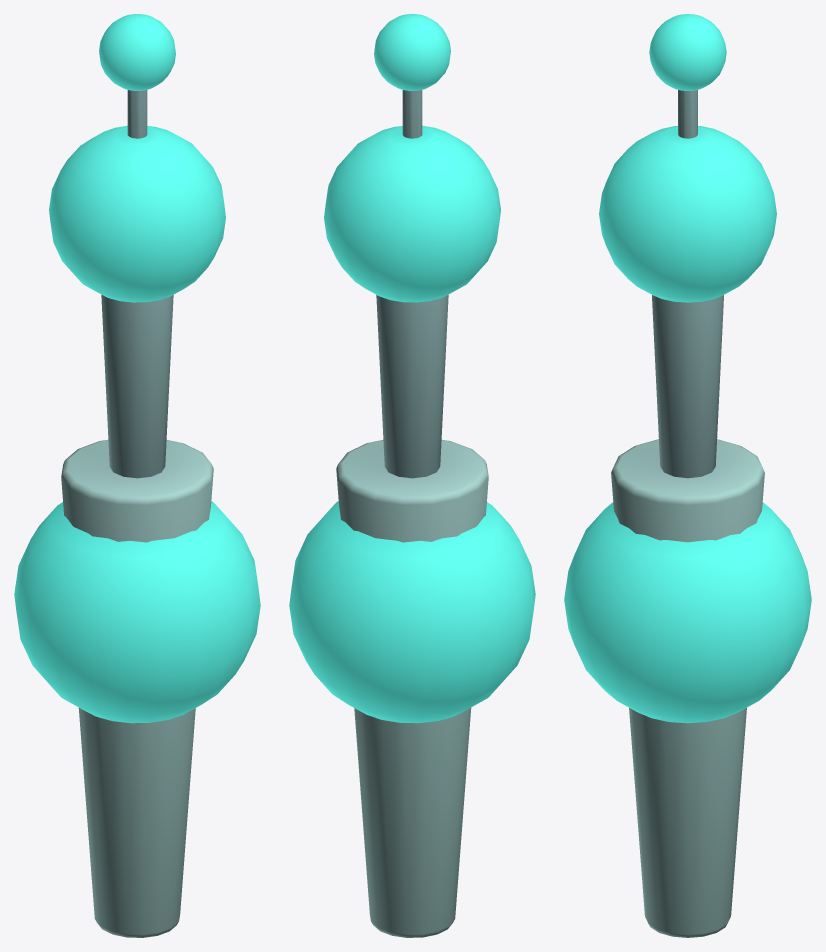
3 views of the same model, side by side, from view 1: azimuth 30°, elevation 25°; view 2: azimuth 150°, elevation 25°; view 3: azimuth 270°, elevation 25° (orthographic).
Visible parts, largest first — view 1: landmark_38ec5686; view 2: landmark_38ec5686; view 3: landmark_38ec5686.
Part boxes in pixels (<box>): landmark_38ec5686: <box>14,14,260,937</box>; landmark_38ec5686: <box>289,14,535,937</box>; landmark_38ec5686: <box>564,14,811,937</box>.
Size of the model in its own units: 3.2 by 12.9 by 3.2.
